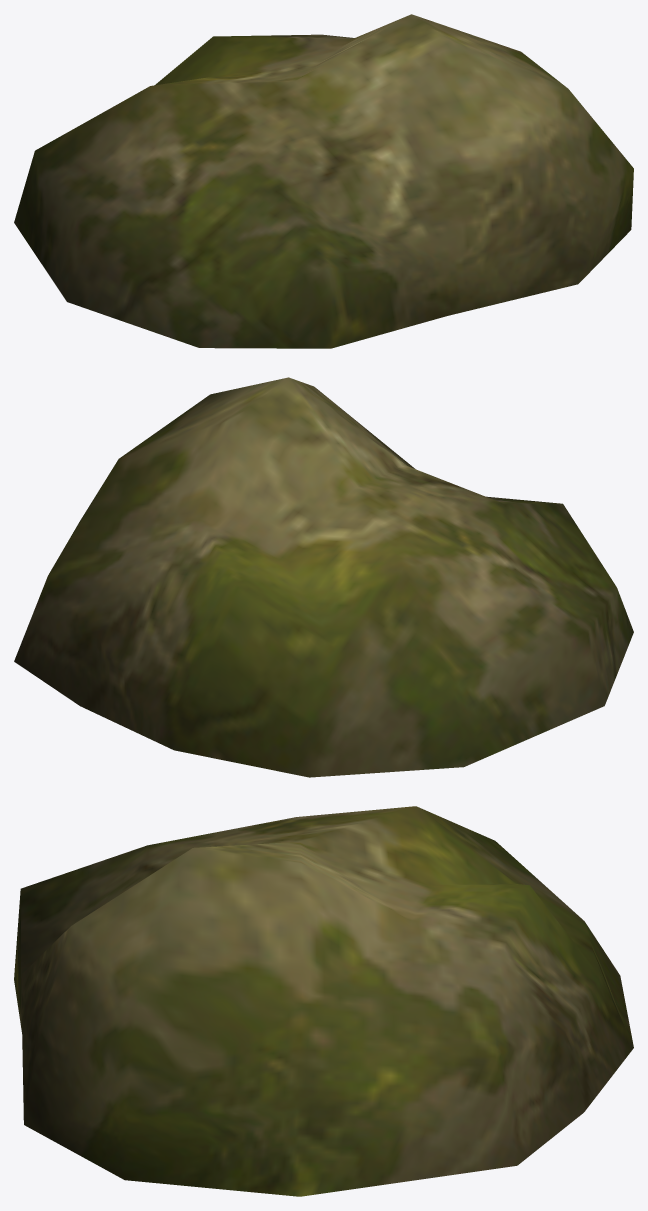
The model's file is lumina_natural_rock_medium_p1.FBX.
The picture shows the model from 3 angles, top to bottom: view 1: azimuth 30°, elevation 25°; view 2: azimuth 150°, elevation 25°; view 3: azimuth 270°, elevation 25°; orthographic projection. The views are drawn at different scales.
Parts seen in each view (by area): view 1: lumina_natural_rock_medium_p1; view 2: lumina_natural_rock_medium_p1; view 3: lumina_natural_rock_medium_p1.
Part boxes in pixels (x1,y1,x2,y2): lumina_natural_rock_medium_p1: [14, 14, 633, 348]; lumina_natural_rock_medium_p1: [14, 377, 633, 777]; lumina_natural_rock_medium_p1: [14, 806, 633, 1196].
Bounding box in the file's own units: 4.15 × 1.55 × 3.58.
